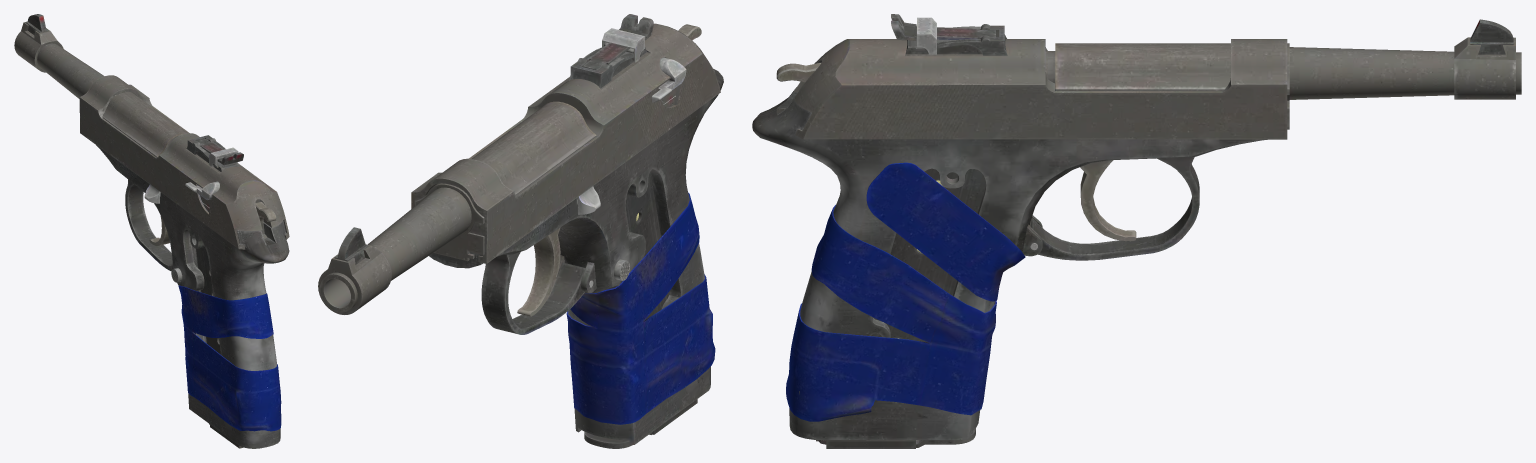
Rendered from bant.glb.
3 renders of one model, left to right at view 1: azimuth 30°, elevation 25°; view 2: azimuth 150°, elevation 25°; view 3: azimuth 270°, elevation 25°, orthographic. The views are drawn at different scales.
Visible parts, largest first — view 1: govde, surgu, sarjor; view 2: govde, surgu, sarjor; view 3: govde, surgu, sarjor.
Part boxes in pixels (box(x1,y1,x2,y2)): govde: box(14, 14, 289, 448); surgu: box(79, 75, 289, 249); sarjor: box(196, 247, 243, 448); govde: box(318, 24, 723, 444); surgu: box(411, 14, 720, 263); sarjor: box(584, 173, 697, 448); govde: box(752, 19, 1521, 439); surgu: box(794, 14, 1287, 139); sarjor: box(816, 168, 985, 448).
Bounding box in the file's own units: 0.0292 × 0.1327 × 0.2219.
1 material, 1 textured.
